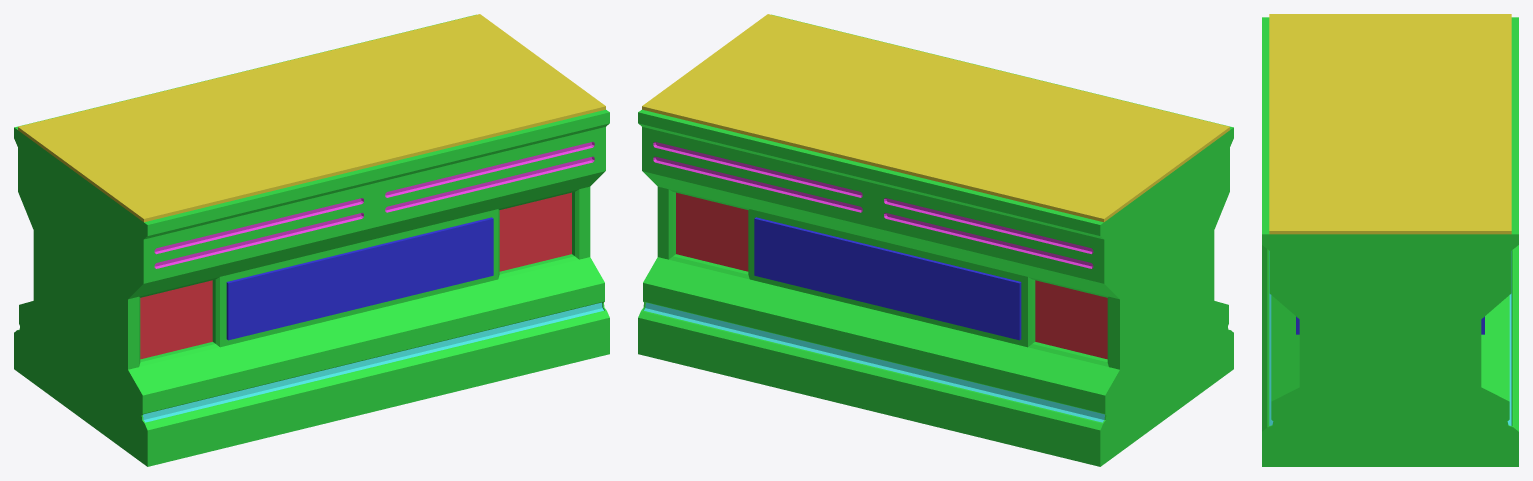
The model's file is Bar_Table_01_Straight.fbx.
3 renders of one model, left to right at view 1: azimuth 30°, elevation 25°; view 2: azimuth 150°, elevation 25°; view 3: azimuth 270°, elevation 25°, orthographic. The views are drawn at different scales.
Visible parts, largest first — view 1: Bar_Table_01_Straight; view 2: Bar_Table_01_Straight; view 3: Bar_Table_01_Straight.
Boxes of the visible parts, x1,y1,x2,y2 form: Bar_Table_01_Straight: (14, 14, 609, 466); Bar_Table_01_Straight: (638, 14, 1233, 466); Bar_Table_01_Straight: (1262, 14, 1518, 466).
Size of the model in its own units: 183 by 92.71 by 91.44.
